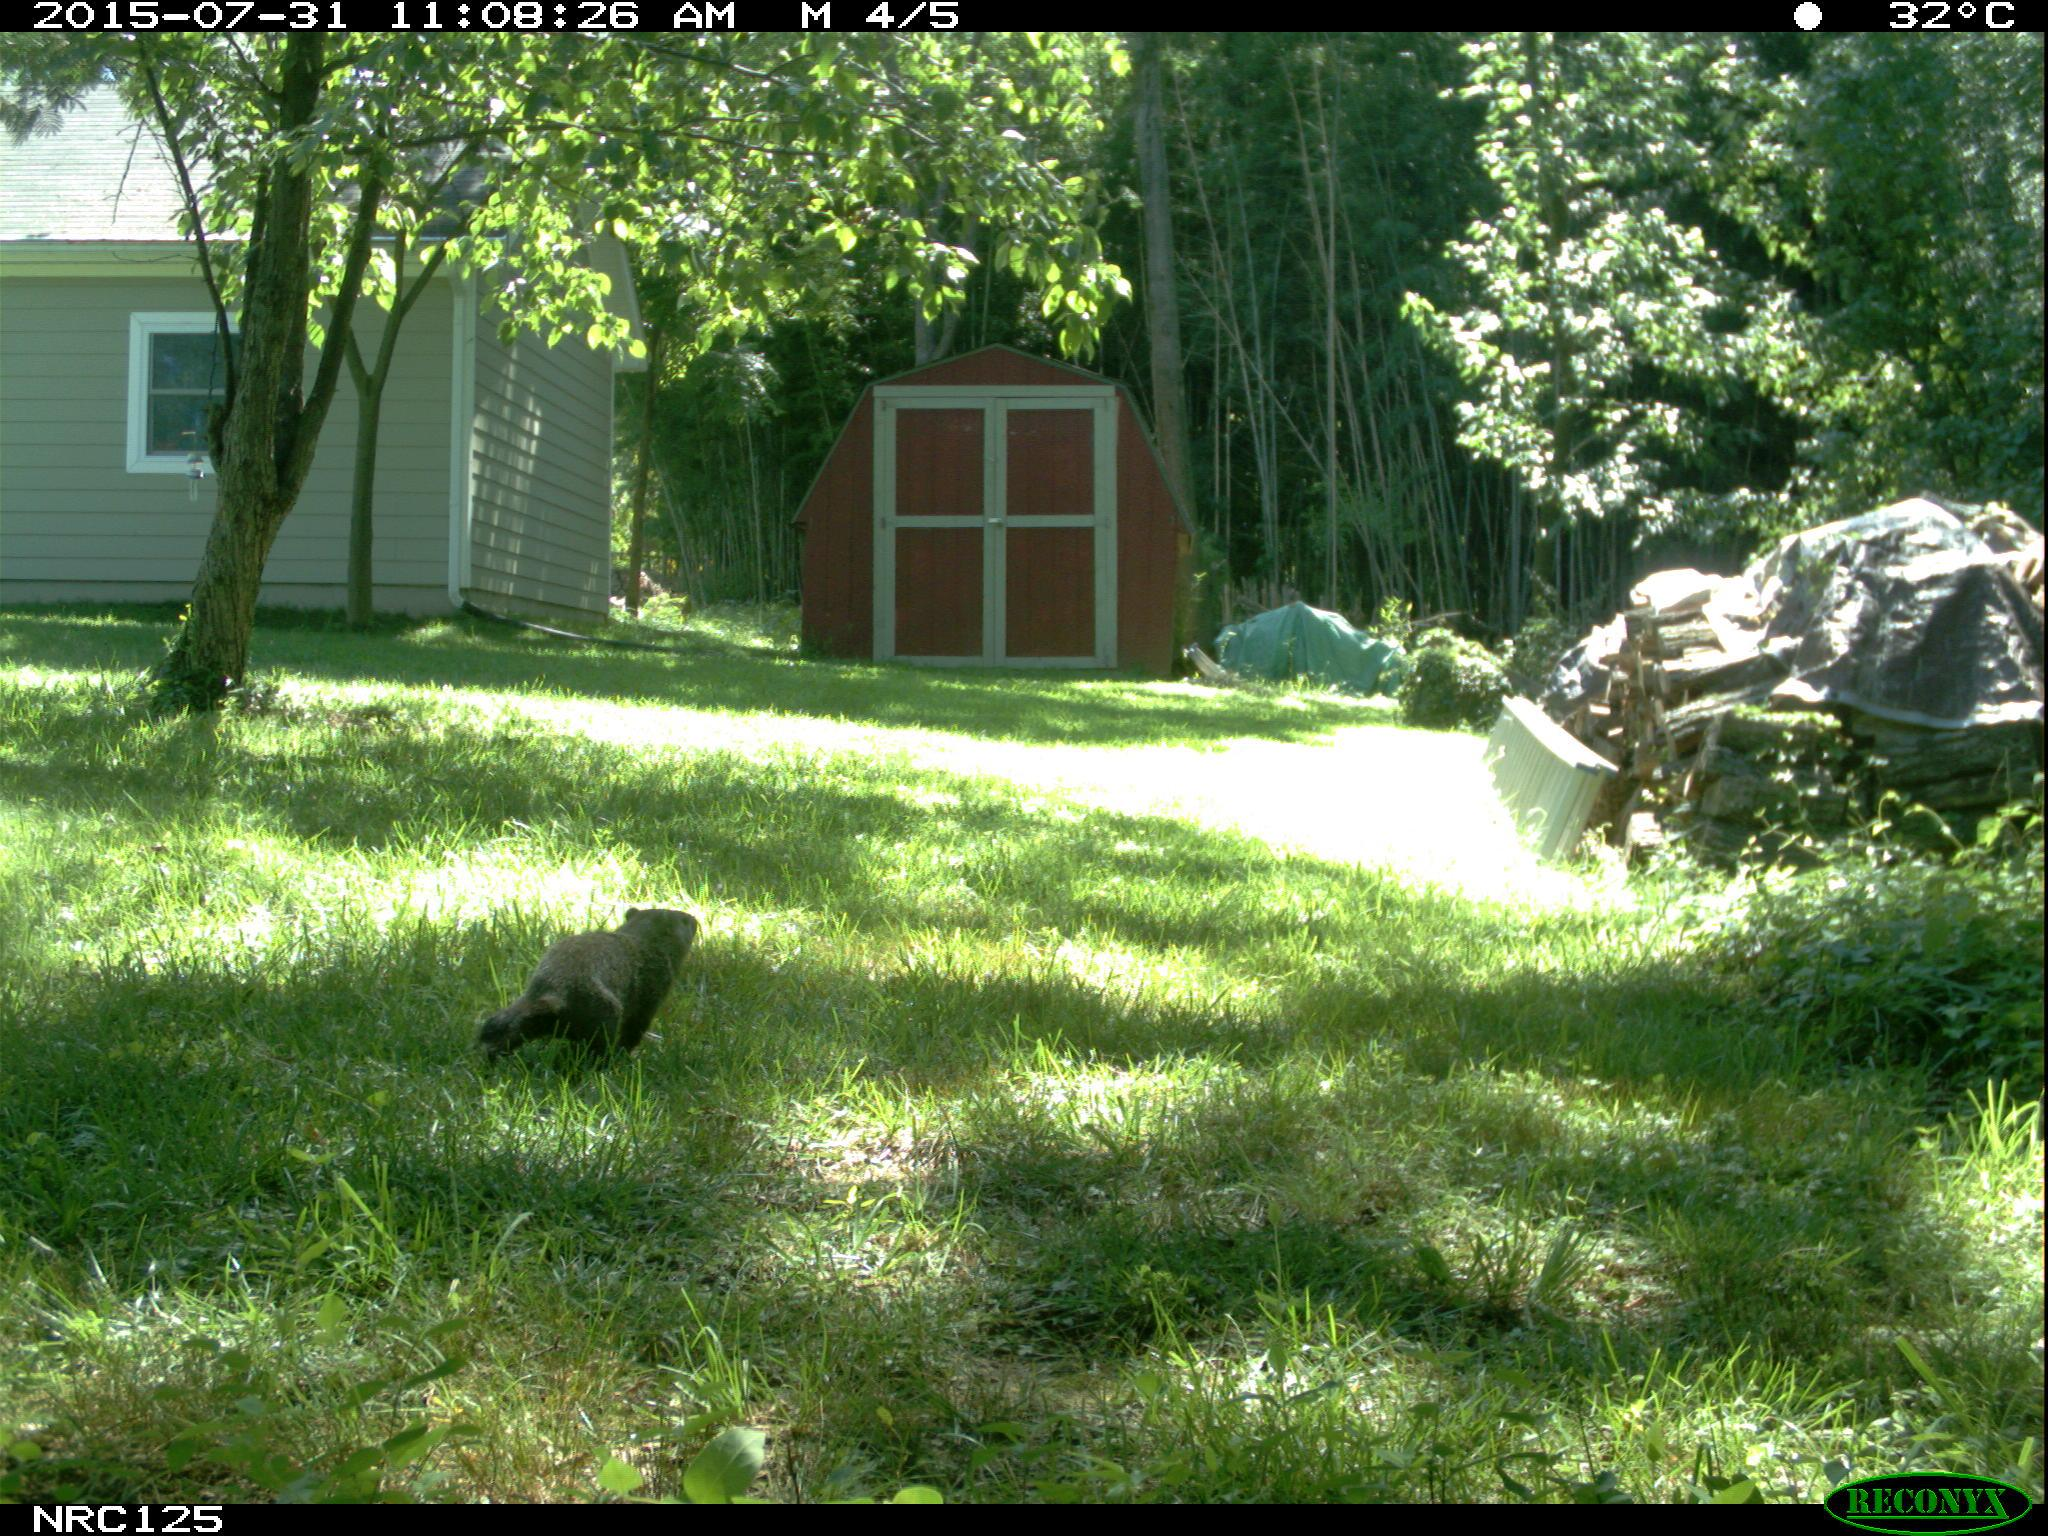Animal: (481, 904, 701, 1092)
